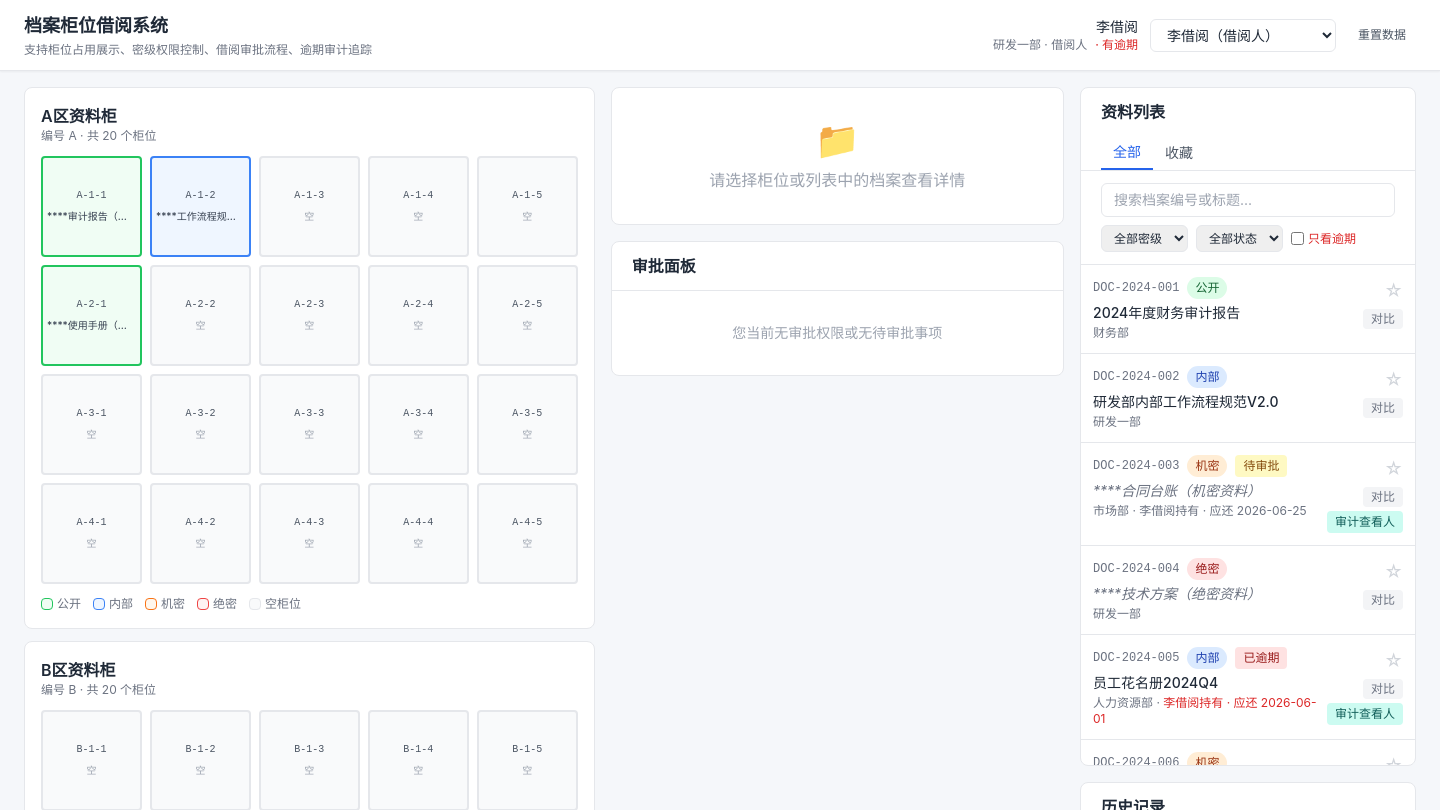
Scenario: smoke-905: 收藏对比与流程查询复查 › 对比功能测试 › 对比面板可以查看对比详情，空态有提示
This screenshot has width=1440, height=810.
Select "张档案（档案员）" in the dropdown with test id "role-select" at {"x": 1243, "y": 35}, box [1150, 18, 1336, 52]
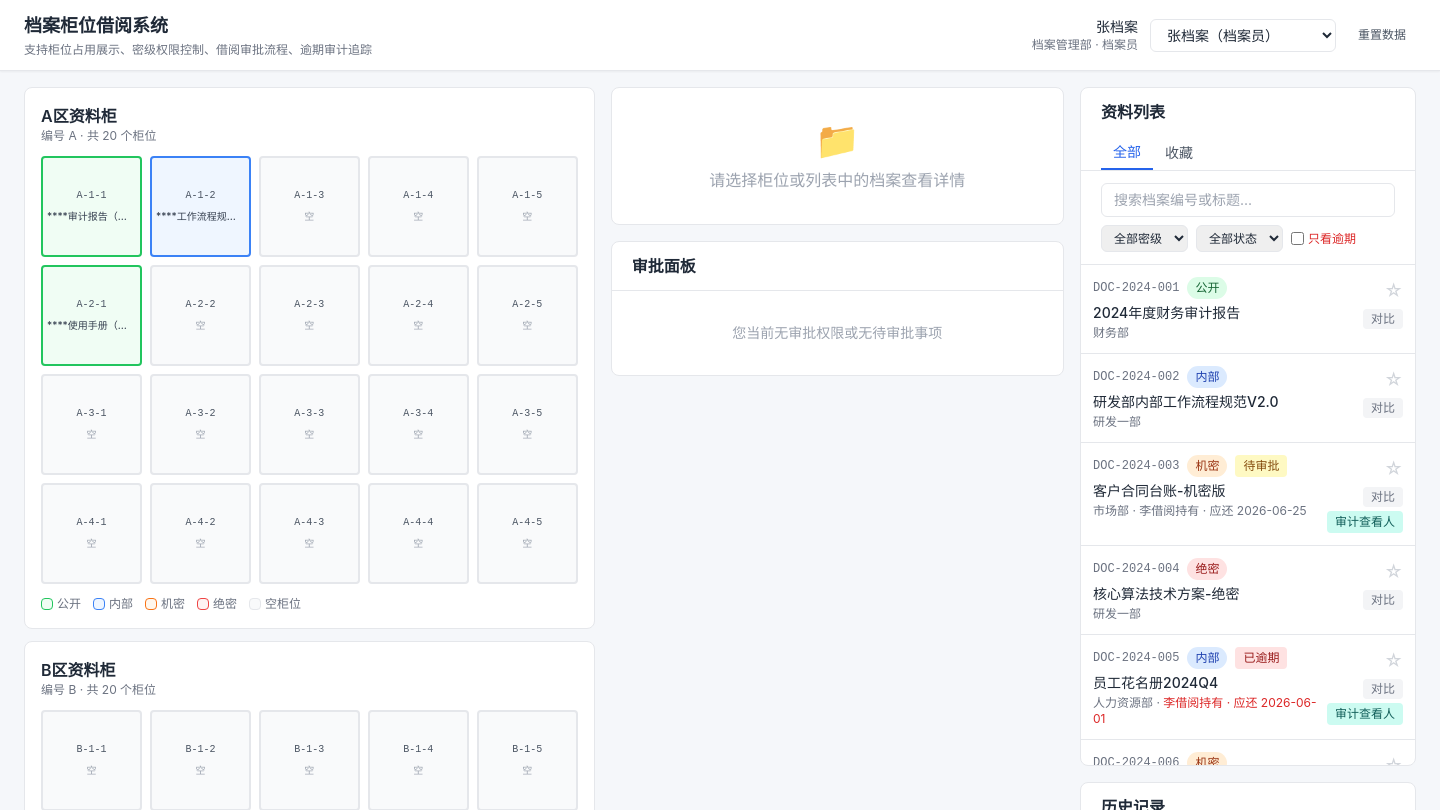
Click the button with test id "btn-compare-arc-1" at {"x": 1383, "y": 319}, box [1363, 309, 1403, 329]
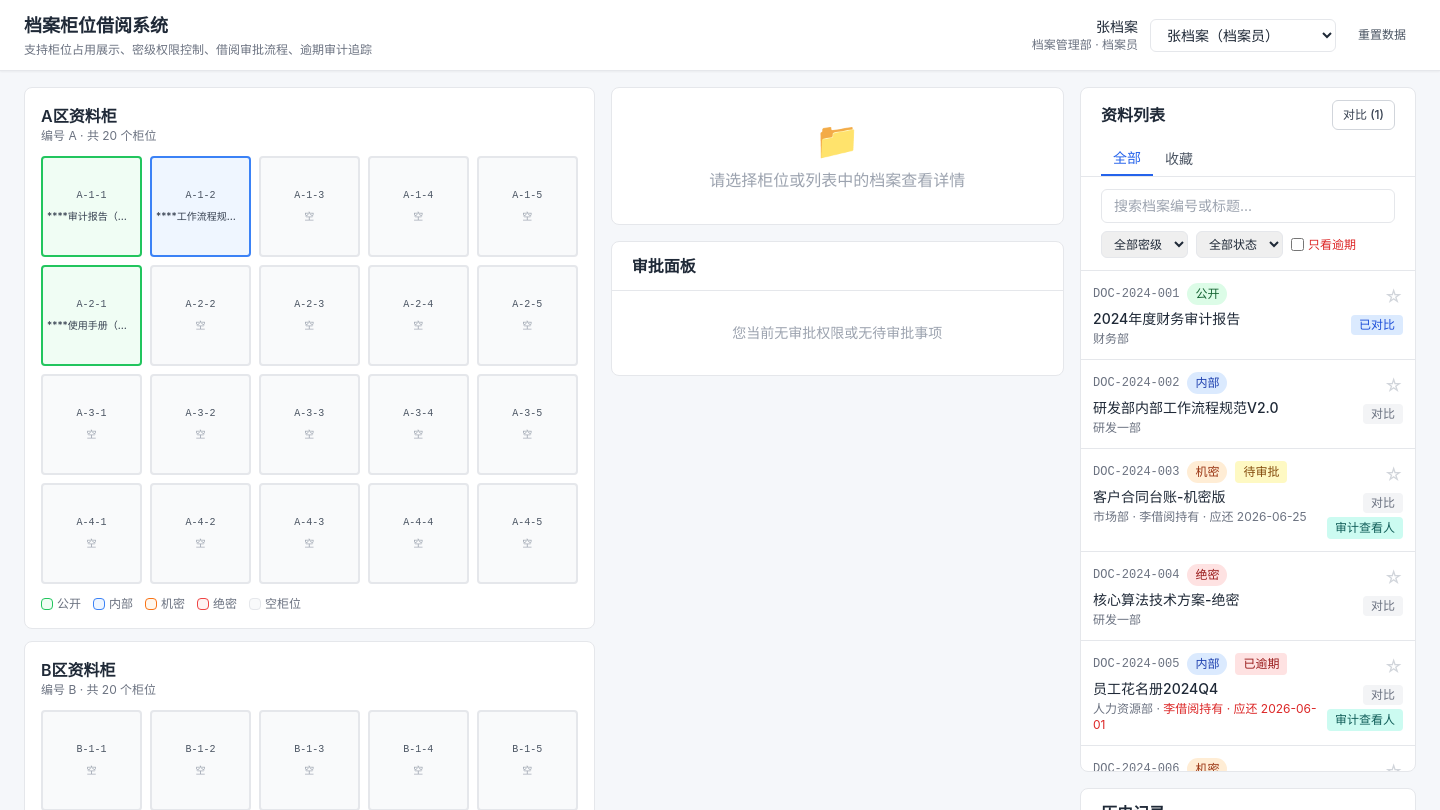
Click the button with test id "btn-open-compare" at {"x": 1364, "y": 115}, box [1332, 100, 1395, 130]
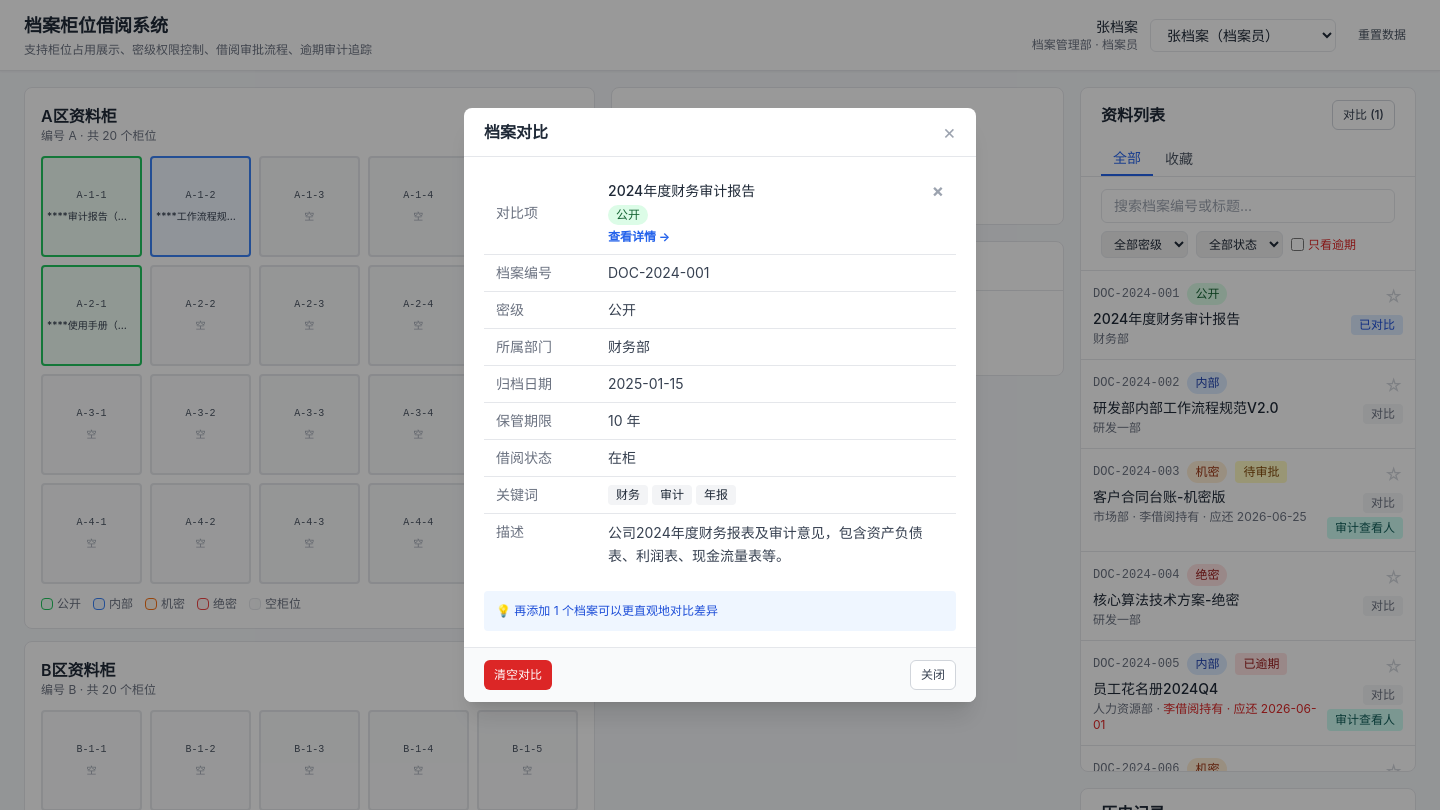
expect the element with test id "compare-panel" is shown: met, box [484, 173, 956, 631]
expect the table with test id "compare-table" is shown: met, box [484, 173, 956, 575]
expect the text "档案编号" is shown: met, box [484, 254, 596, 291]
Click the button with test id "btn-clear-compare" at {"x": 518, "y": 675}, box [484, 660, 552, 690]
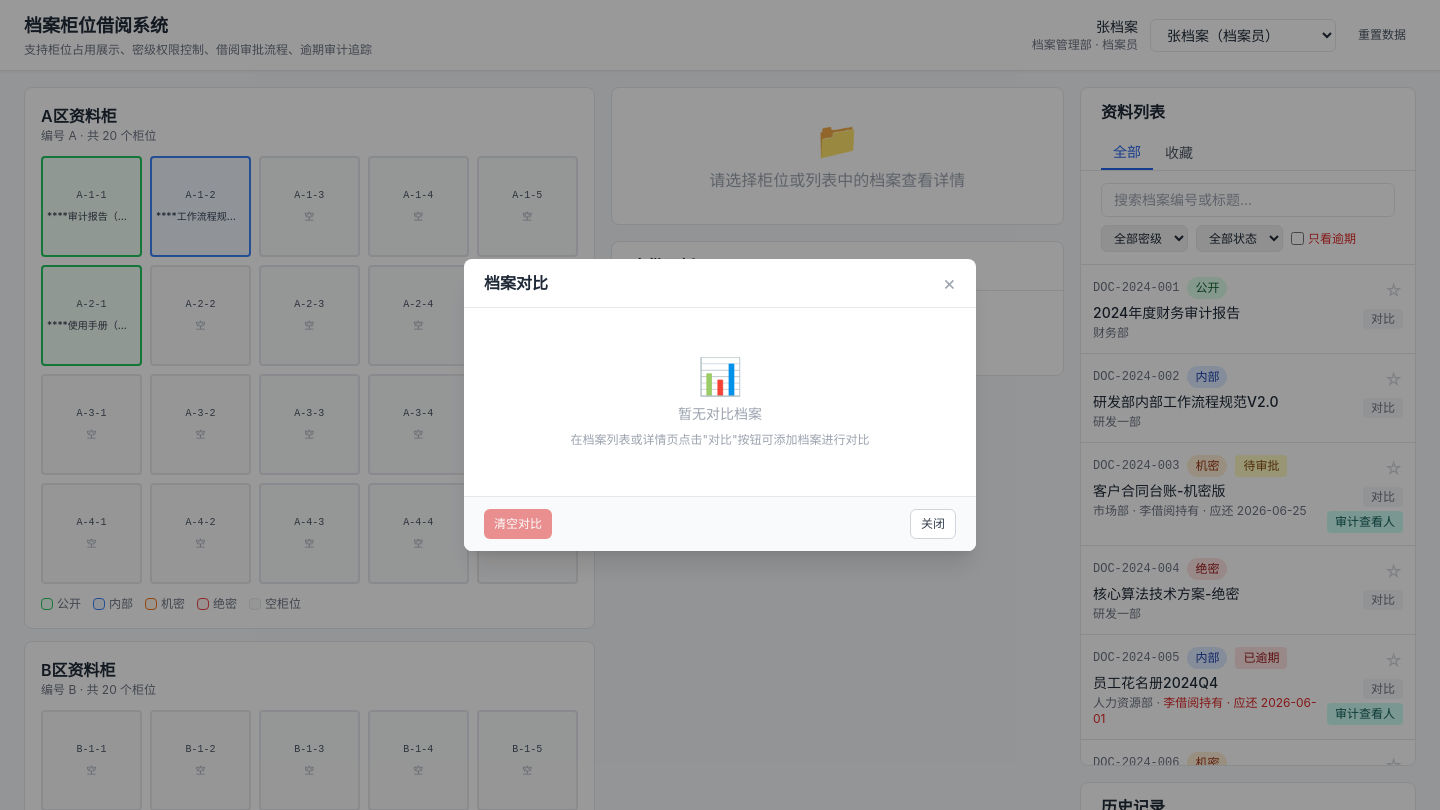
expect the element with test id "compare-empty" is shown: met, box [570, 354, 870, 447]
expect the text "暂无对比档案" is shown: met, box [678, 405, 762, 422]
